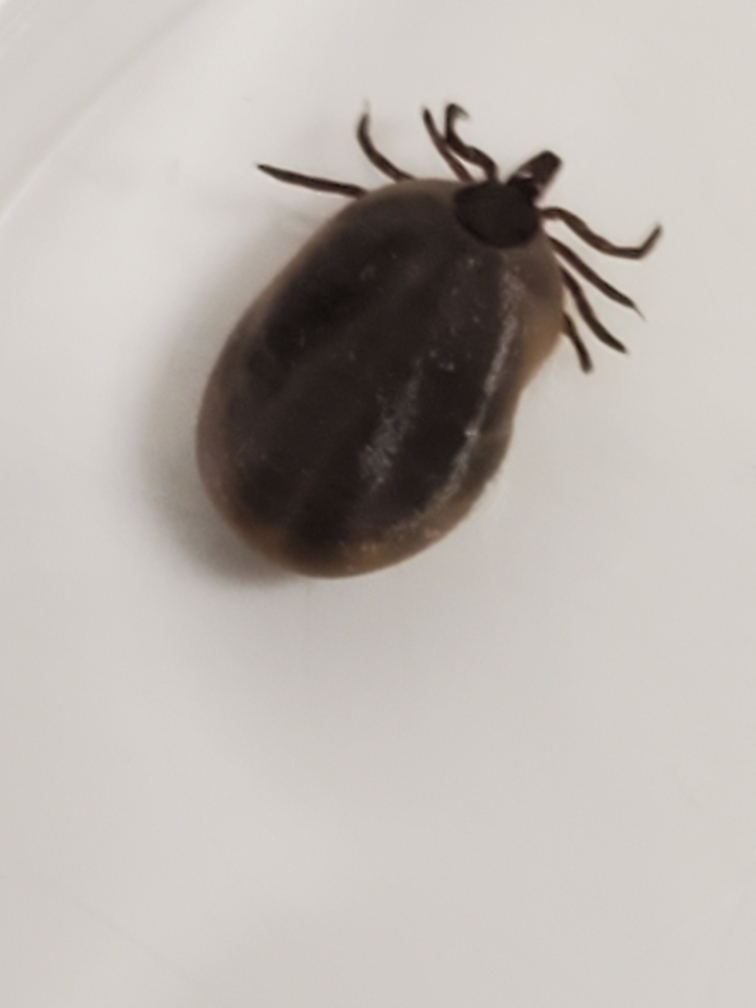unlabelled_tick: (168, 59, 690, 603)
